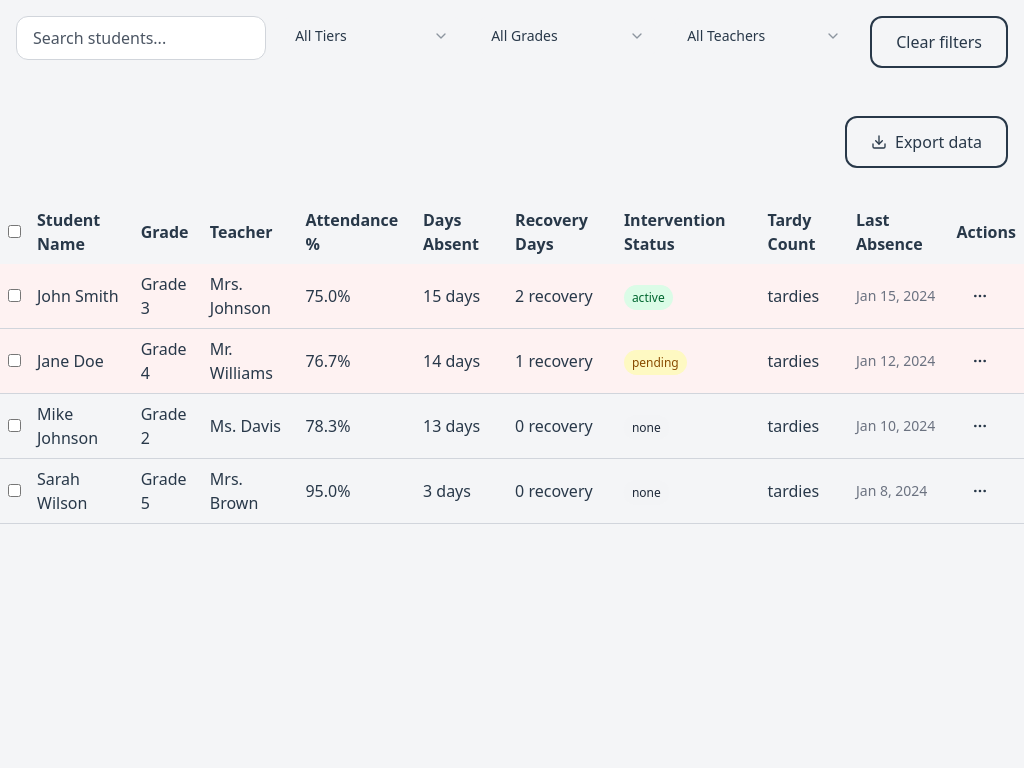
Test: StudentList Component › Bulk Selection › should support select all functionality
The image size is (1024, 768).
Click the checkbox named "select all students" at coordinates (14, 232), box [8,225,21,238]
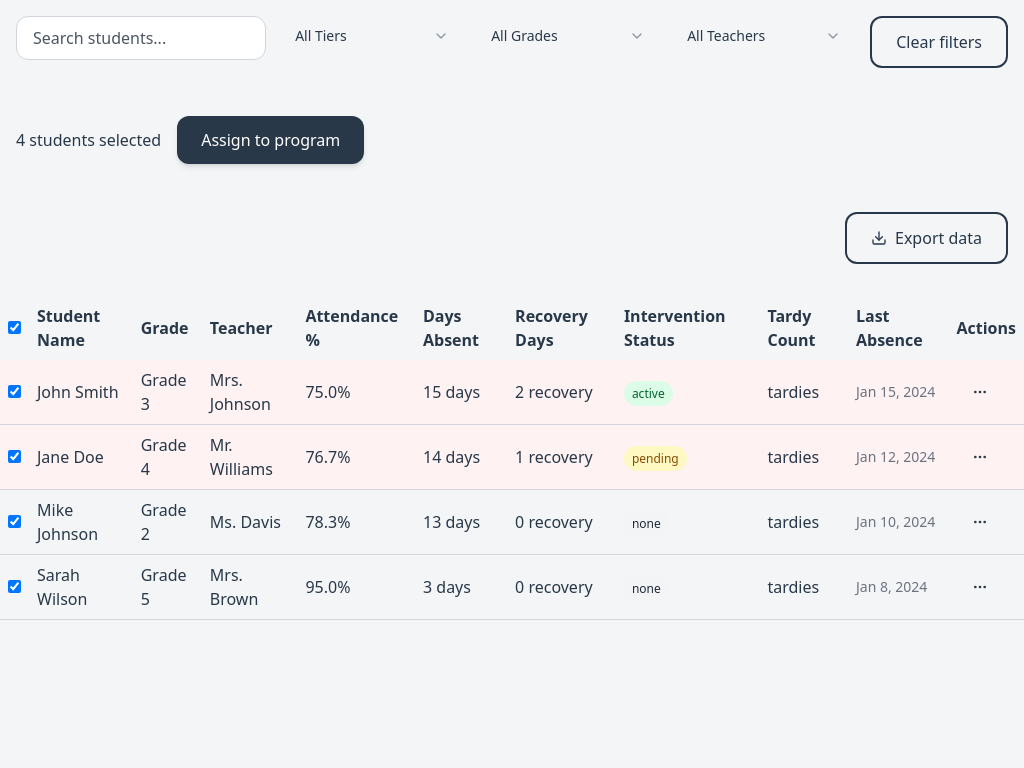
Expected: the checkbox named "Select John Smith" is checked, [8,385,21,398]
Expected: the checkbox named "Select Jane Doe" is checked, [8,450,21,463]
Expected: the checkbox named "Select Mike Johnson" is checked, [8,515,21,528]
